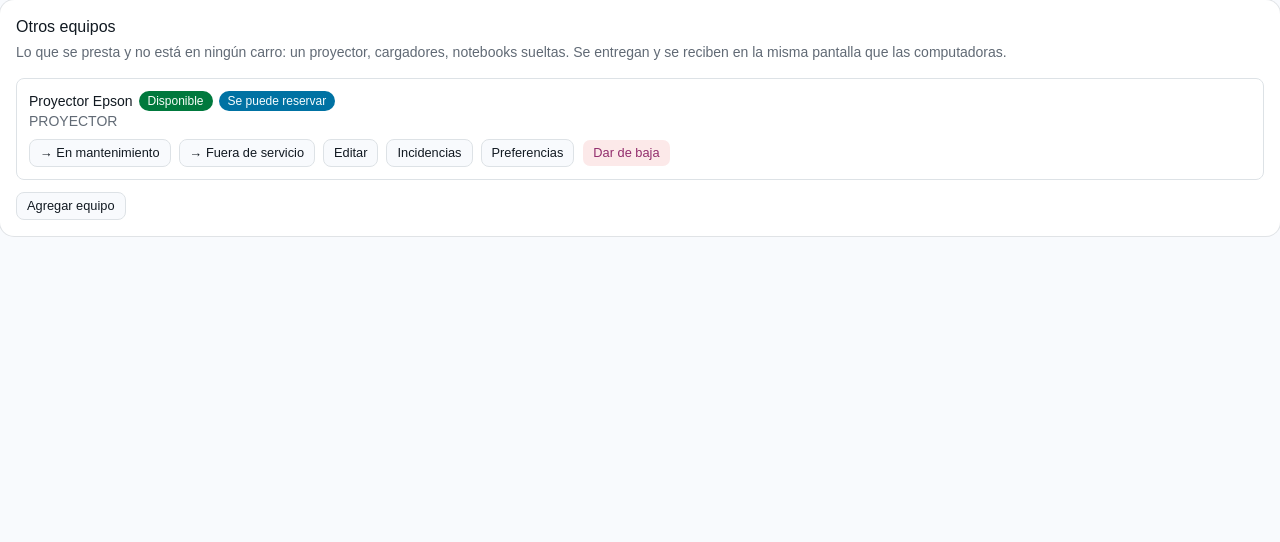
Test case: OtrosEquipos › avisa que quitar lo reservable no toca las reservas ya hechas
Click the button "Editar". click: [351, 153]
box: [323,139,378,167]
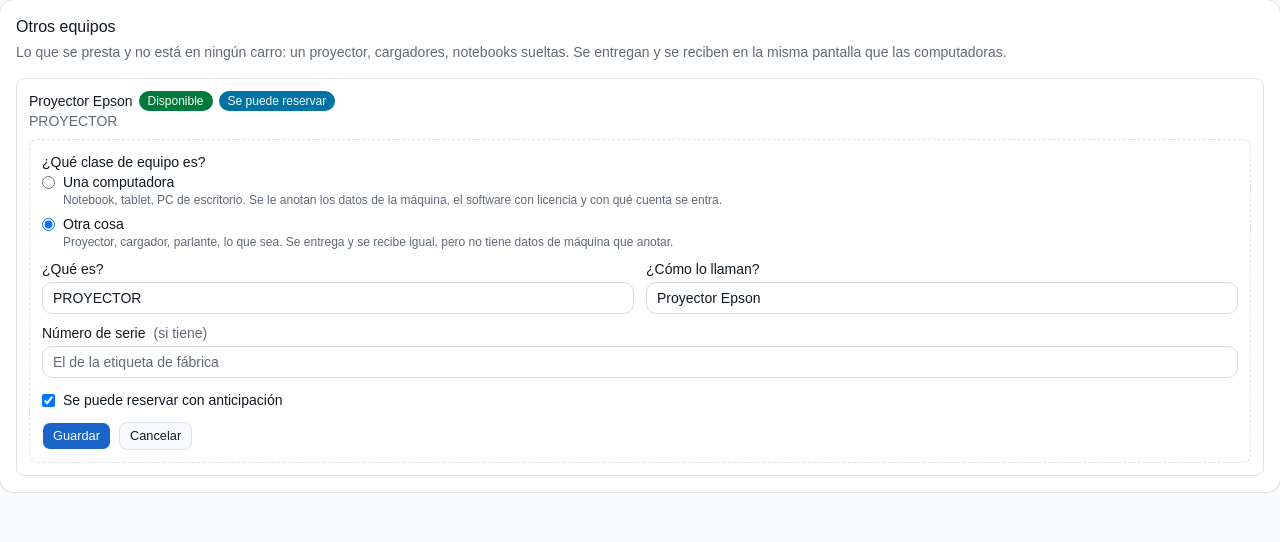
Click the checkbox labelled "Se puede reservar con anticipación". click: [48, 400]
box: [42,394,55,407]
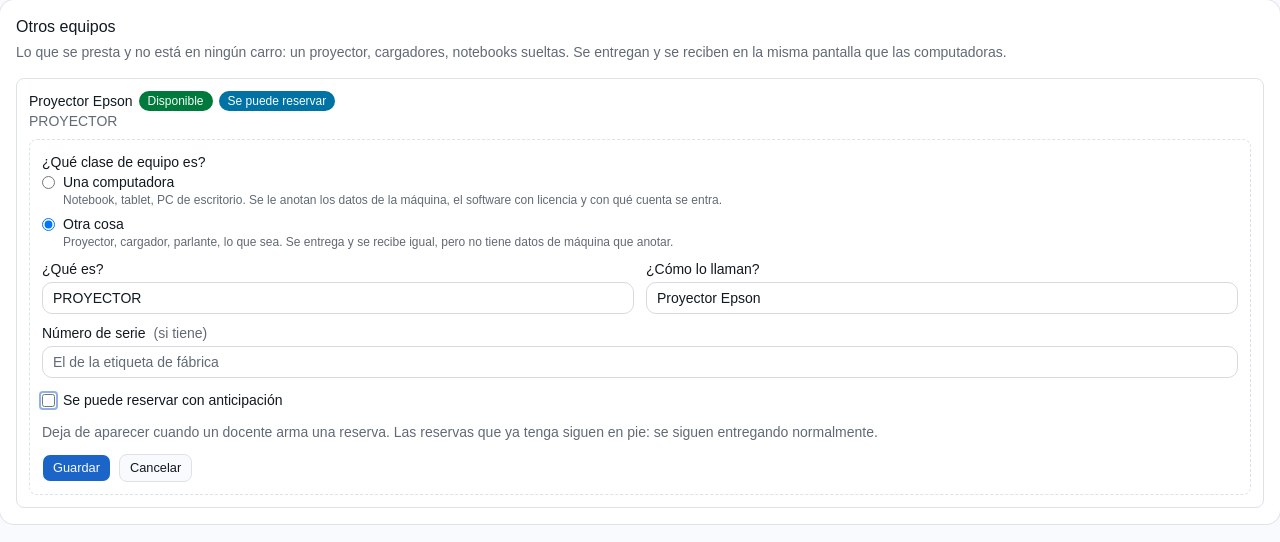
Now the text "Las reservas que ya tenga siguen en pie" is shown, box [42,424,878,440]
